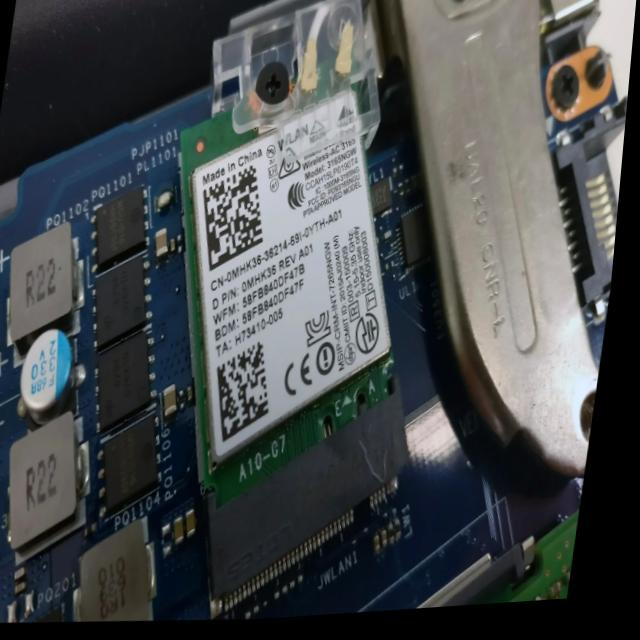datamatrix: (197, 166, 279, 281), (215, 343, 286, 452)
